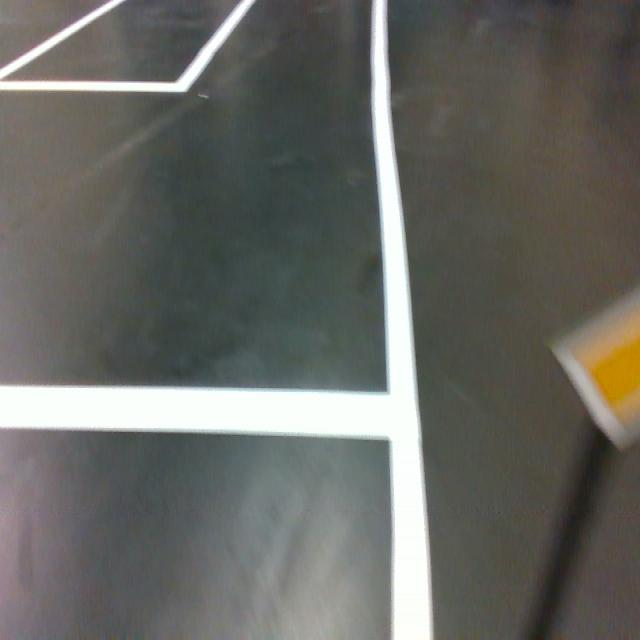priority-sign: (546, 276, 640, 452)
